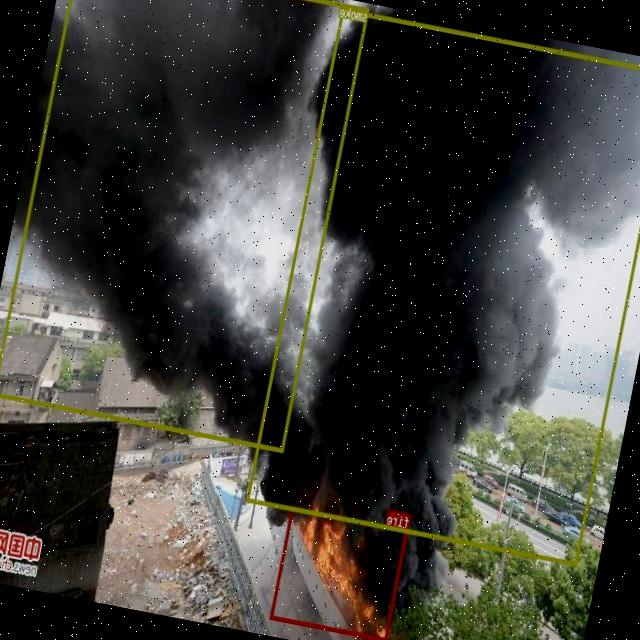fire: (270, 506, 409, 640)
smoke: (246, 7, 640, 565), (0, 0, 370, 452)
